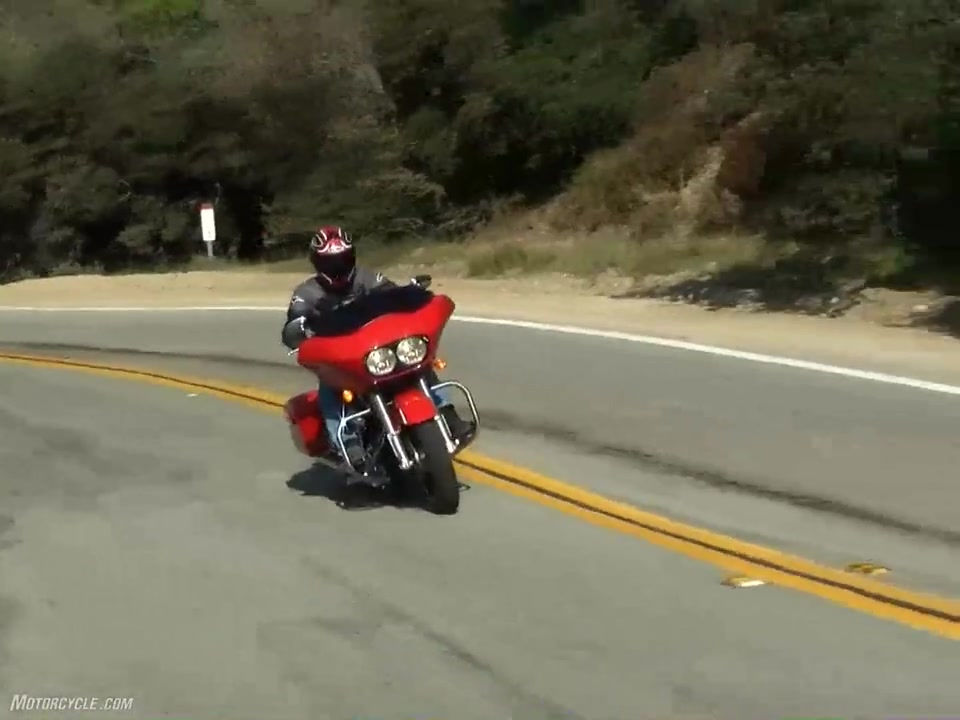motorbike: (280, 270, 480, 515)
